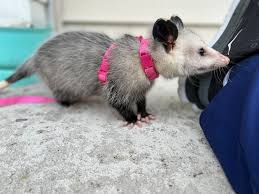opossum: (1, 15, 232, 128)
